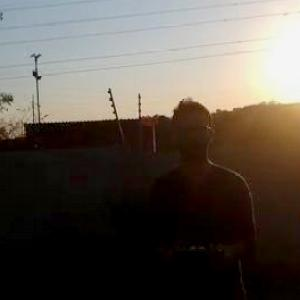follow: (144, 91, 264, 299)
